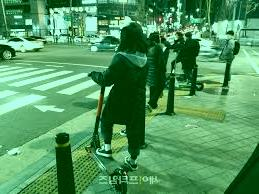nonhelmet: (84, 26, 148, 194), (172, 32, 205, 91)
